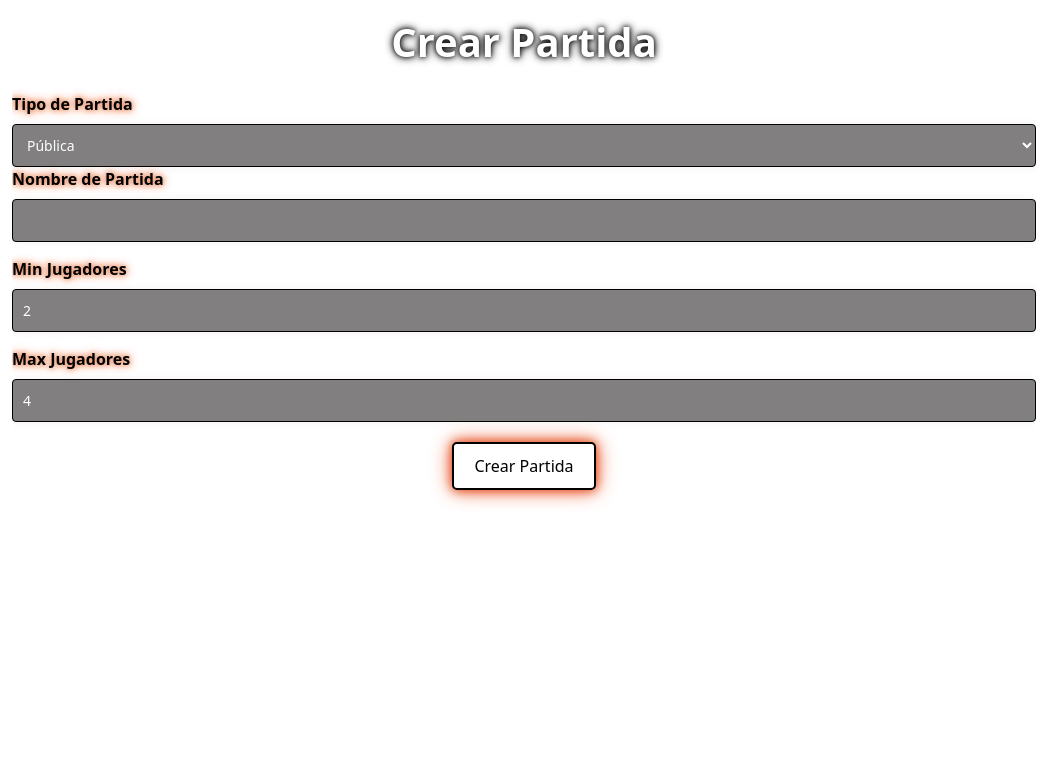
Test: CrearPartida Component › Muestra un mensaje de error si el nombre de la partida está vacío
Click the button "Crear Partida": (524, 466) [452,442,596,490]
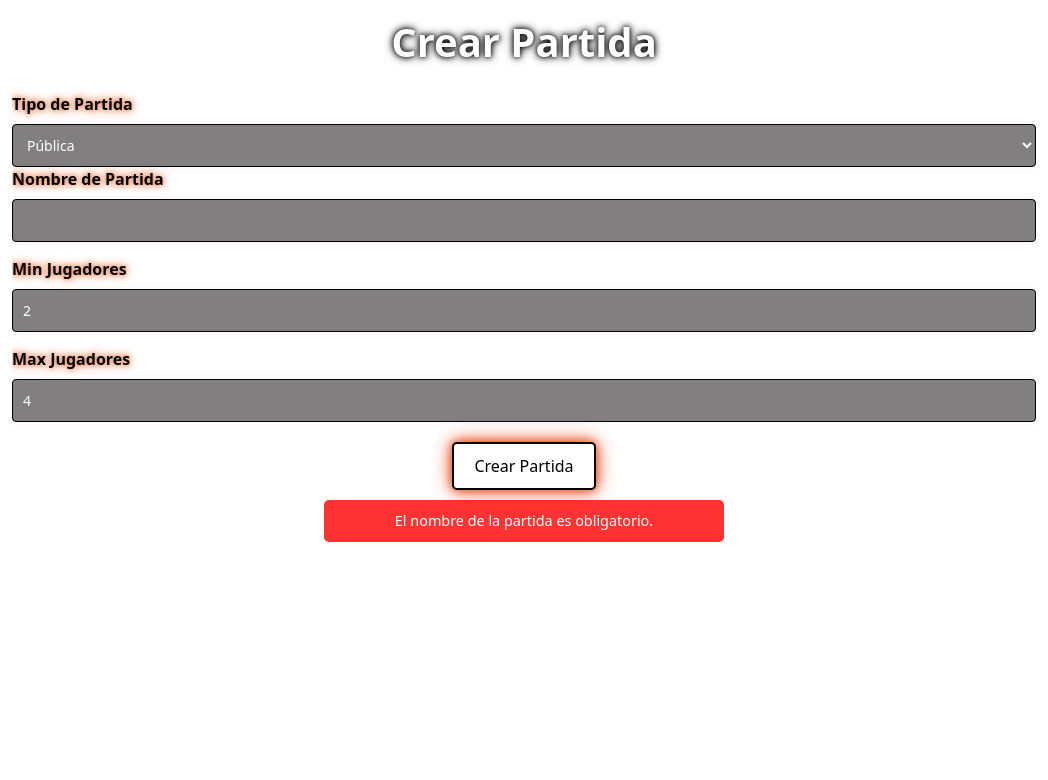
Expected: the text "El nombre de la partida es obligatorio." is shown, [395,511,653,530]
